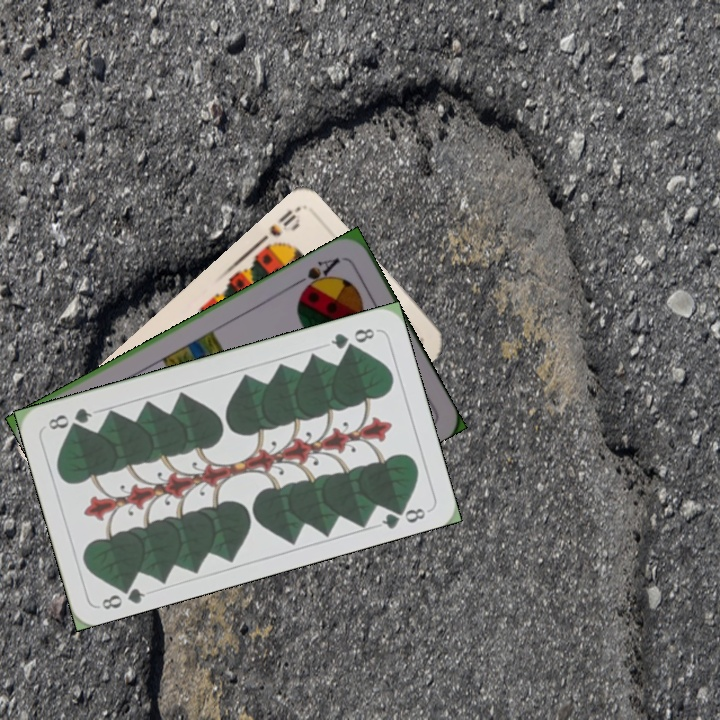G8: (97, 578, 148, 613), (326, 324, 380, 352)
S10: (251, 204, 303, 253)
SA: (291, 253, 343, 296)
